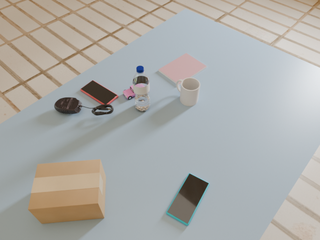book: (159, 53, 207, 85)
bottle: (133, 66, 150, 111)
box: (28, 159, 106, 224)
cup: (176, 78, 200, 106)
mouse: (54, 98, 82, 114)
phone: (166, 173, 209, 226), (80, 80, 118, 104)
toy_car: (123, 85, 135, 99)
